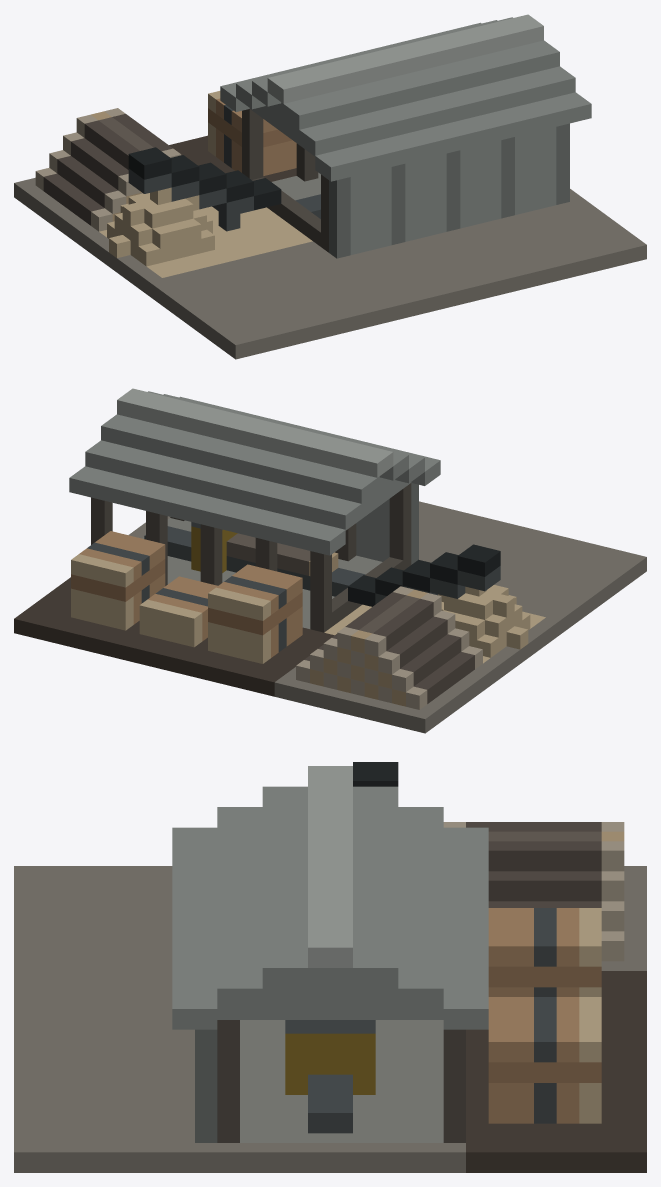
Rendered from Claude_lumberyard.glb.
3 views of the same model, one above another, from view 1: azimuth 30°, elevation 25°; view 2: azimuth 150°, elevation 25°; view 3: azimuth 270°, elevation 25° (orthographic). The views are drawn at different scales.
Parts seen in each view (by area): view 1: Claude_lumberyard; view 2: Claude_lumberyard; view 3: Claude_lumberyard.
Boxes of the visible parts, x1,y1,x2,y2 form: Claude_lumberyard: (14,14,646,359); Claude_lumberyard: (14,388,646,733); Claude_lumberyard: (14,762,646,1172).
Bounding box in the file's own units: 15 × 5.5 × 14.
